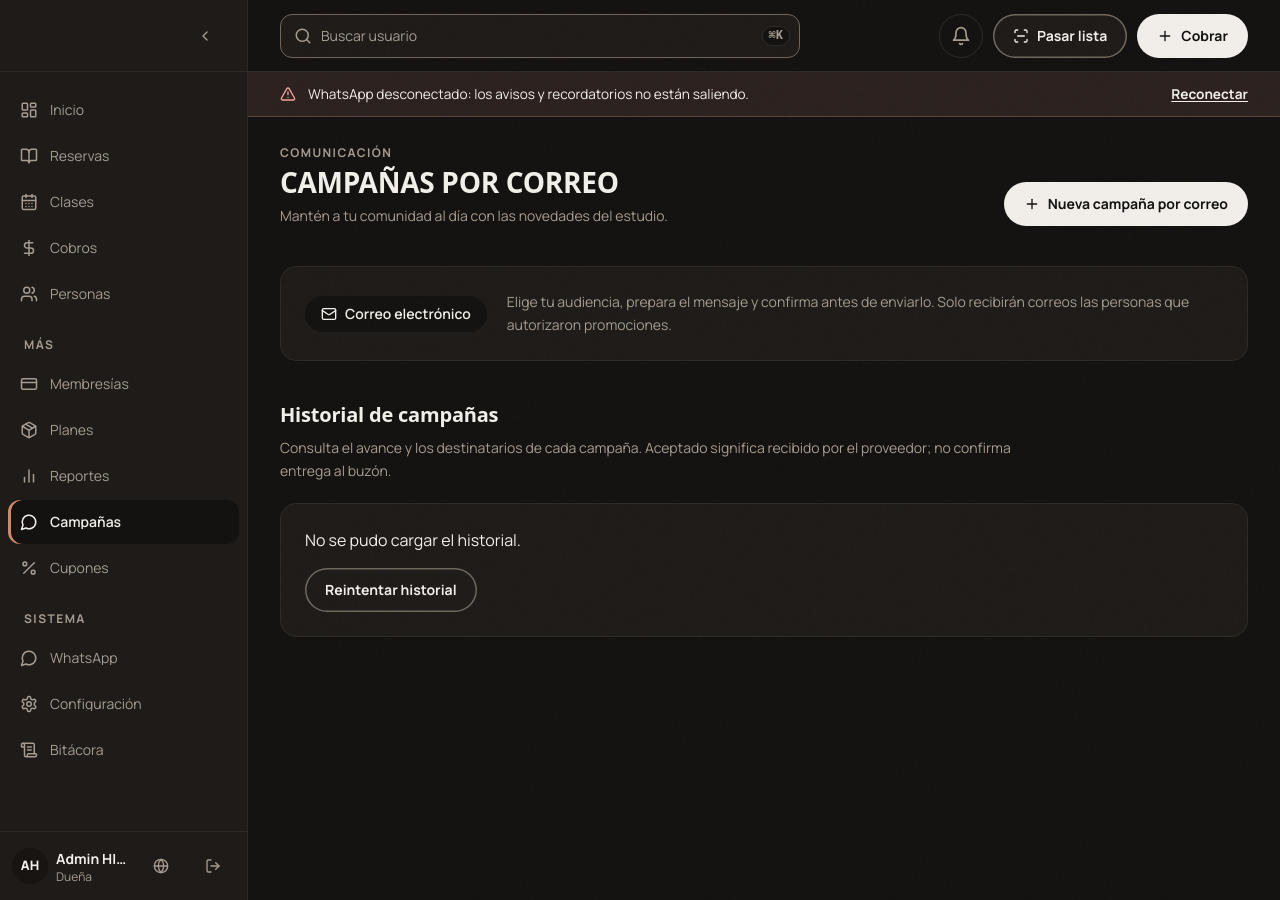
it: muestra error de historial y permite reintentar sin aparentar un historial vacío
expect the text "No se pudo cargar el historial." is shown: met, box [305, 528, 521, 552]
expect the text "Tu primera campaña empieza aquí" is not shown: met
Click the button "Reintentar historial": [391, 590] box [305, 568, 477, 612]
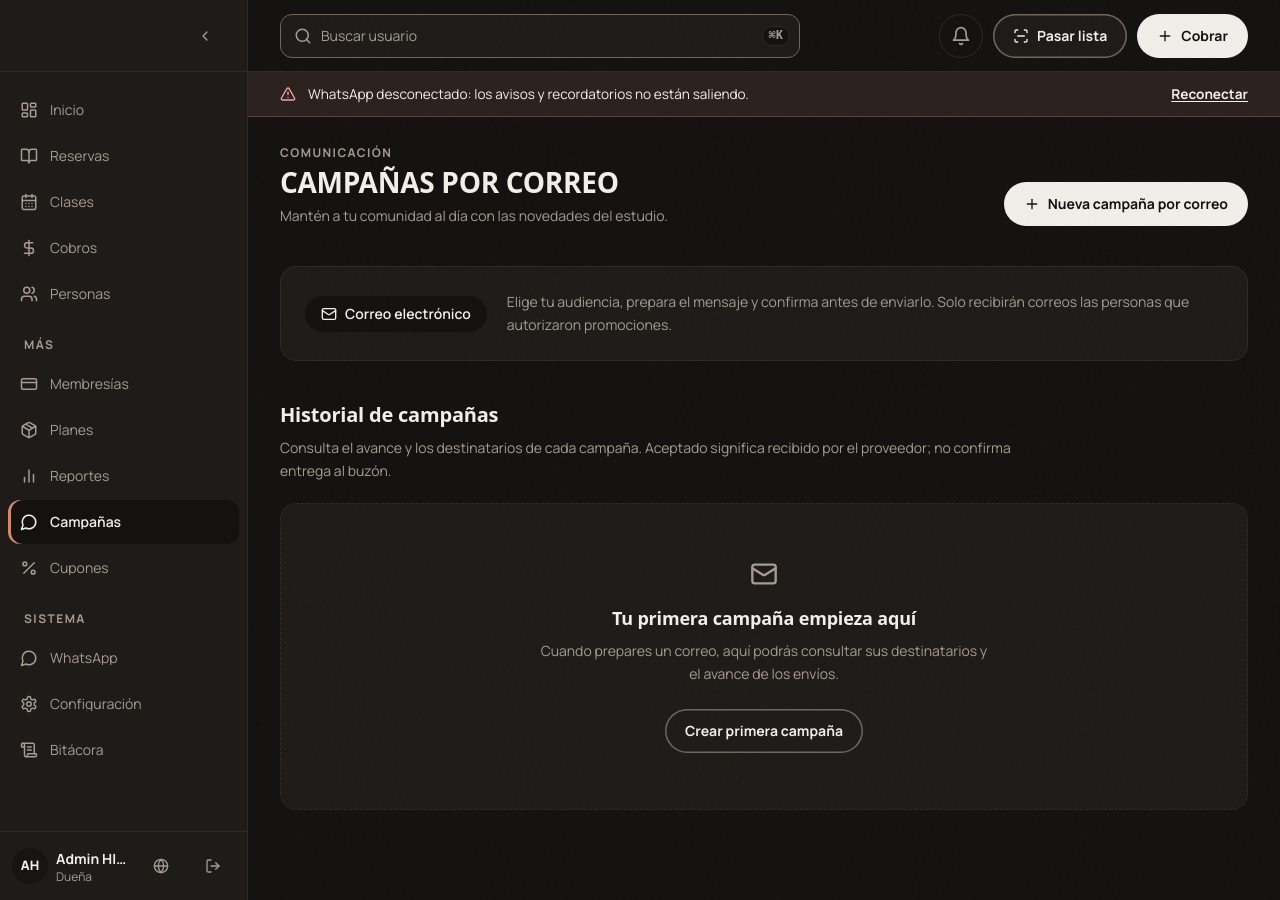
expect the heading "Tu primera campaña empieza aquí" is shown: met, box [612, 606, 916, 630]
